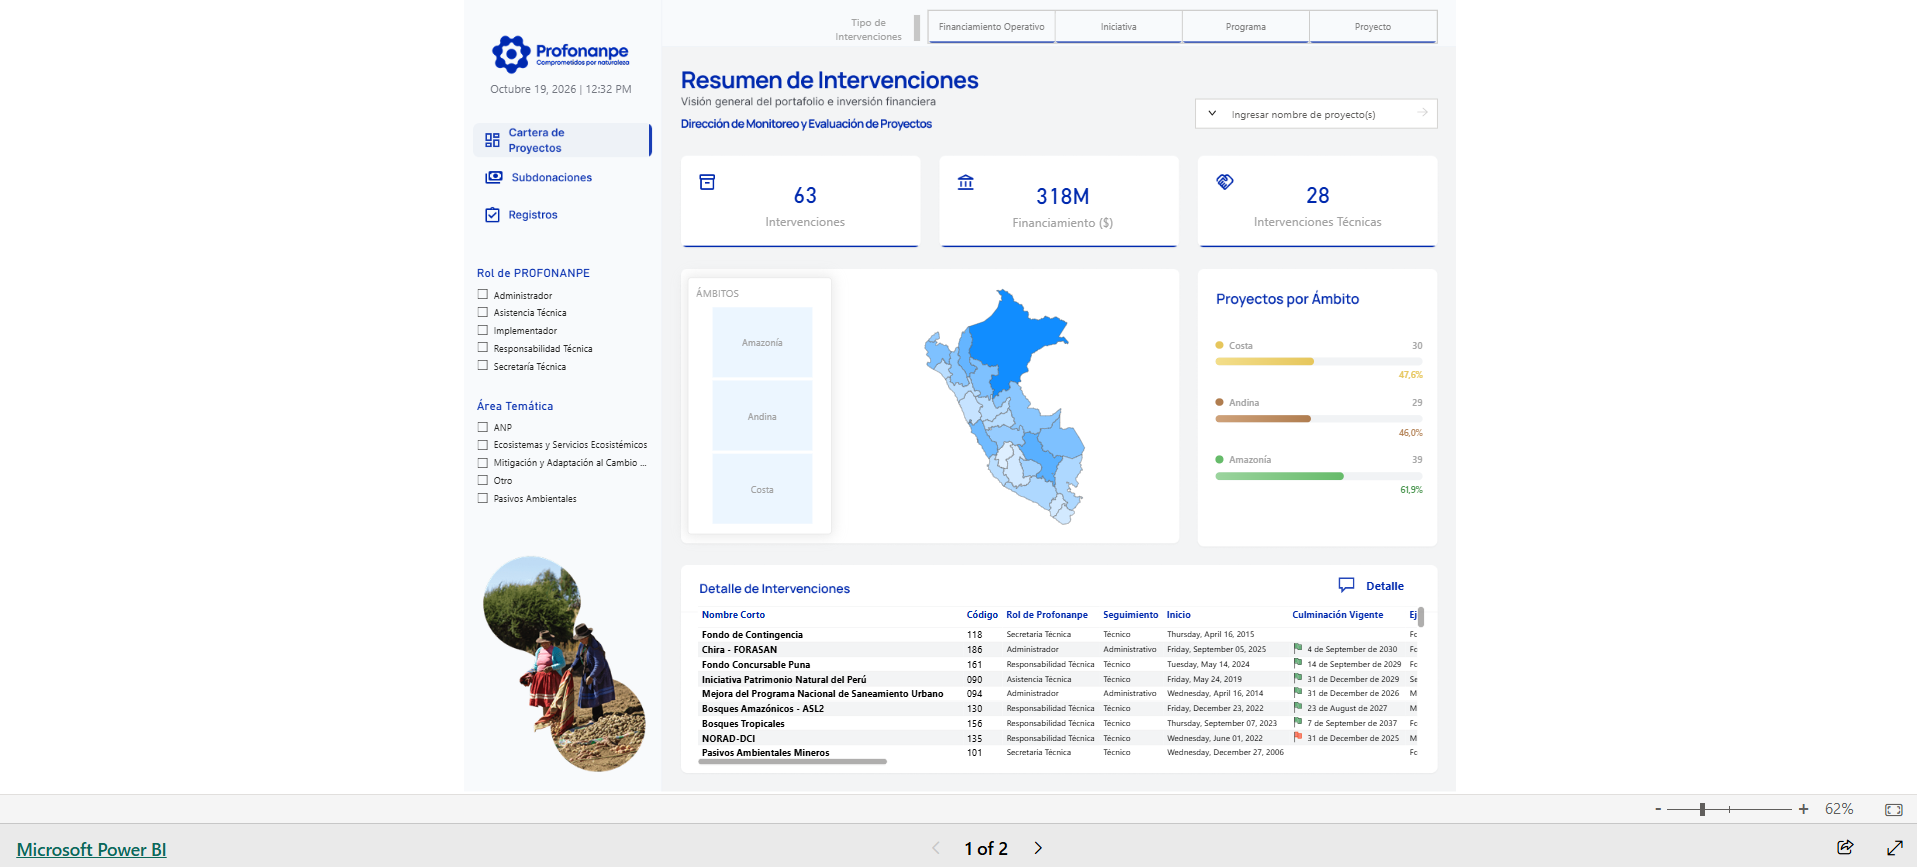

This screenshot's page, from the dashboard's own definition file:
{"tool":"powerbi","page":{"name":"Cartera de Proyectos","canvas":[1280,1024],"ordinal":0},"visuals":[{"type":"advancedSlicerVisual","fields":{"Values":["Fact_Proyectos.Seguimiento"]},"box":[1086.2,12.5,193.8,48],"z":0},{"type":"card","fields":{"Values":["_Measure.Monto Dolarizado"]},"box":[648.6,207.6,248.8,108.1],"z":1000},{"type":"card","fields":{"Values":["Measure.Total Proyectos DIME"]},"box":[978.6,205.7,245.7,108.6],"z":2000},{"type":"card","fields":{"Values":["Measure.N_Proyectos"]},"box":[315.7,205.7,248.6,108.6],"z":3000},{"type":"shapeMap","fields":{"Category":["Dim_Departamentos.Departamento"],"Series":["Dim_Ubicacion.Ubigeo"],"Value":["_Measure.Proyectos por Departamento"]},"box":[474.3,351.4,447.1,347.1],"z":4000},{"type":"slicer","title":"REGIONES","fields":{"Values":["Fact_Proyectos.Región"]},"box":[288.6,357.1,185.7,332.9],"z":5000},{"type":"textSlicer","fields":{"Values":["Fact_Proyectos.Nombre corto"]},"box":[252.9,12.9,291.4,48.6],"z":6000},{"type":"htmlContent443BE3AD55E043BF878BED274D3A6855","fields":{"content":["_Measure.HTML Región2"]},"box":[957.1,392.9,287.1,327.1],"z":7000},{"type":"cardVisual","fields":{"Data":["_Measure.Fecha Actualizacion"]},"box":[1050,141.4,212.9,64.3],"z":8000},{"type":"listSlicer","fields":{"Values":["Fact_Proyectos.Tipo proyecto"]},"box":[12,344.6,253.9,144.1],"z":9000},{"type":"listSlicer","fields":{"Values":["Dim_Roles.Rol de Profonanpe"]},"box":[12,514.1,253.9,109.8],"z":10000},{"type":"pageNavigator","box":[12.5,160,227.5,43.8],"z":11000},{"type":"pivotTable","fields":{"Rows":["Fact_Proyectos.CodigoProyecto","Fact_Proyectos.Nombre corto"],"Values":["Min(Fact_Proyectos.Fecha de inicio)","Min(Fact_Proyectos.Fecha Max)","Min(Fact_Proyectos.Moneda)","Sum(Fact_Proyectos.Monto del donante)","_Measure.Roles Profonanpe","Min(Fact_Proyectos.Fuente de financiamiento)","Min(Fact_Proyectos.Ejecutor)","Min(Fact_Proyectos.Aliados para la ejecución ( Gores, Municipalidades y  Empresas))","Min(Fact_Proyectos.Avances Clave ( al 31.12.25))"]},"box":[296.8,777.3,947.1,214.5],"z":12000},{"type":"actionButton","box":[655.4,205.9,250.5,108.1],"z":13000},{"type":"textbox","box":[990,21.4,117.1,40],"z":14000},{"type":"pageNavigator","box":[12,205.9,228.2,42.9],"z":16000}]}

Visuals, with their boxes on the page's 1280x1024 design canvas (x1, y1, x2, y2). These are canvas units, not pixel positions in the 1917x867 screenshot, which may show the page scaled, cropped or inside an application window:
advancedSlicerVisual - Fact_Proyectos.Seguimiento: pyautogui.locateOnScreen(1086, 12, 1280, 60)
card - _Measure.Monto Dolarizado: pyautogui.locateOnScreen(649, 208, 897, 316)
card - Measure.Total Proyectos DIME: pyautogui.locateOnScreen(979, 206, 1224, 314)
card - Measure.N_Proyectos: pyautogui.locateOnScreen(316, 206, 564, 314)
shapeMap - Dim_Departamentos.Departamento x Dim_Ubicacion.Ubigeo: pyautogui.locateOnScreen(474, 351, 921, 698)
"REGIONES" slicer: pyautogui.locateOnScreen(289, 357, 474, 690)
textSlicer - Fact_Proyectos.Nombre corto: pyautogui.locateOnScreen(253, 13, 544, 62)
htmlContent443BE3AD55E043BF878BED274D3A6855 - _Measure.HTML Región2: pyautogui.locateOnScreen(957, 393, 1244, 720)
cardVisual - _Measure.Fecha Actualizacion: pyautogui.locateOnScreen(1050, 141, 1263, 206)
listSlicer - Fact_Proyectos.Tipo proyecto: pyautogui.locateOnScreen(12, 345, 266, 489)
listSlicer - Dim_Roles.Rol de Profonanpe: pyautogui.locateOnScreen(12, 514, 266, 624)
pageNavigator: pyautogui.locateOnScreen(12, 160, 240, 204)
pivotTable - Fact_Proyectos.CodigoProyecto x Fact_Proyectos.Nombre corto: pyautogui.locateOnScreen(297, 777, 1244, 992)
actionButton: pyautogui.locateOnScreen(655, 206, 906, 314)
textbox: pyautogui.locateOnScreen(990, 21, 1107, 61)
pageNavigator: pyautogui.locateOnScreen(12, 206, 240, 249)
